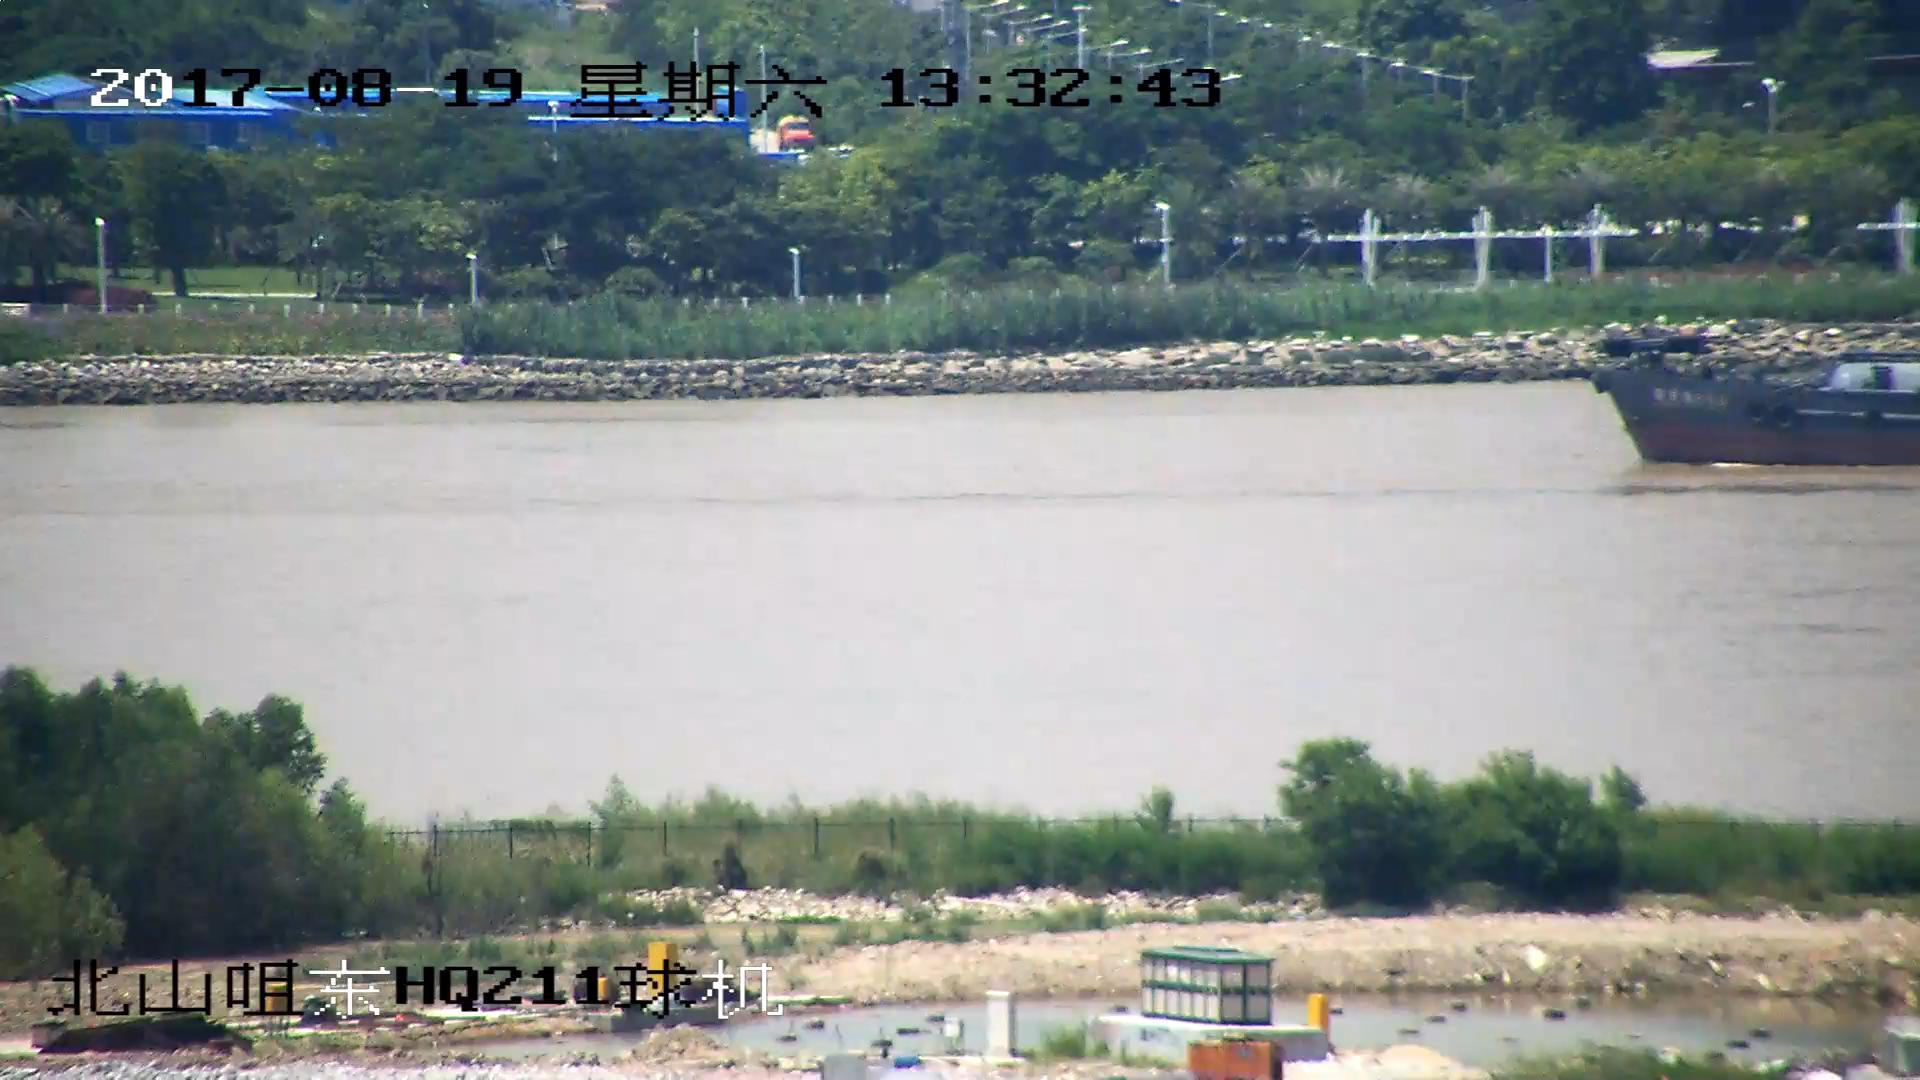bulk cargo carrier: (1592, 336, 1920, 463)
